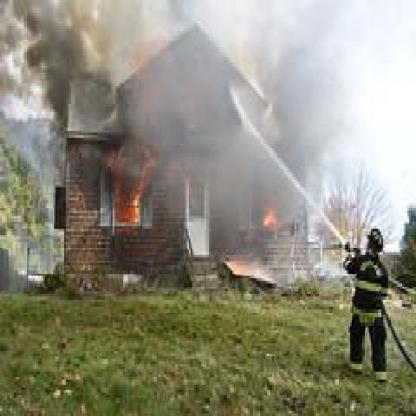fire: (104, 142, 142, 220), (254, 190, 280, 231)
